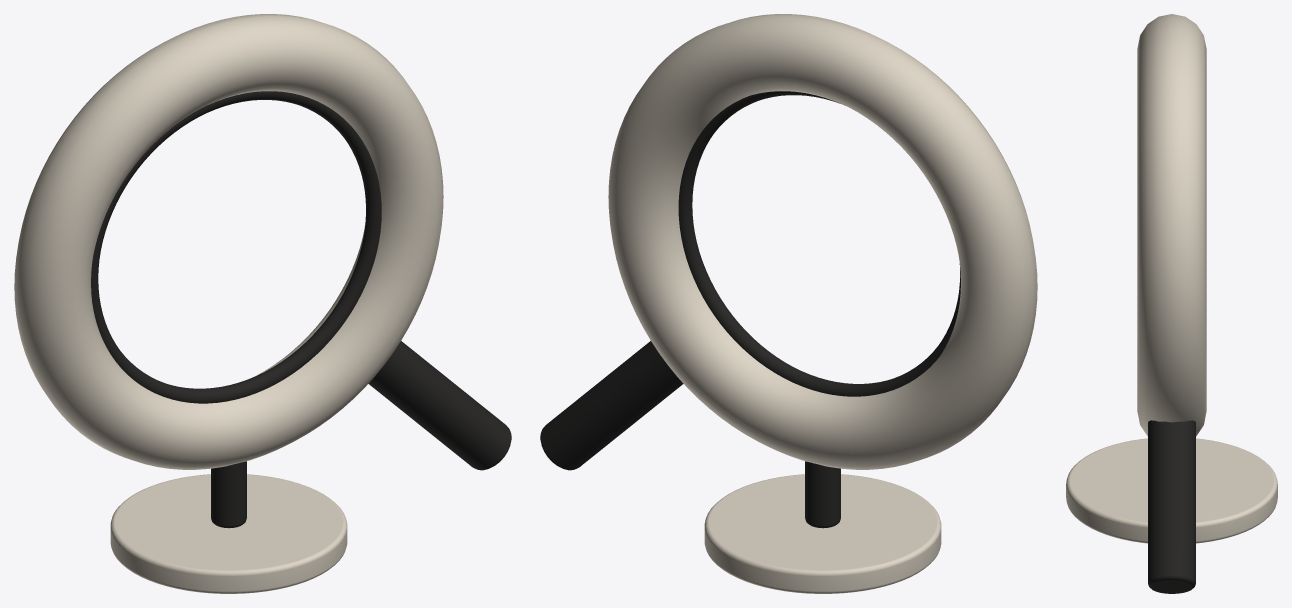
The model's file is VSV-014_insight-lens__lens-tilt.glb.
3 views of the same model, side by side, from view 1: azimuth 30°, elevation 25°; view 2: azimuth 150°, elevation 25°; view 3: azimuth 270°, elevation 25° (orthographic). The views are drawn at different scales.
Visible parts, largest first — view 1: VSV-014_insight-lens__lens rim, VSV-014_insight-lens__plinth, VSV-014_insight-lens__ink inner, VSV-014_insight-lens__handle, VSV-014_insight-lens__lens support; view 2: VSV-014_insight-lens__lens rim, VSV-014_insight-lens__plinth, VSV-014_insight-lens__handle, VSV-014_insight-lens__ink inner, VSV-014_insight-lens__lens support; view 3: VSV-014_insight-lens__lens rim, VSV-014_insight-lens__plinth, VSV-014_insight-lens__handle.
Boxes of the visible parts, x1,y1,x2,y2 form: VSV-014_insight-lens__lens rim: (14, 14, 443, 469); VSV-014_insight-lens__plinth: (110, 474, 347, 593); VSV-014_insight-lens__ink inner: (91, 91, 381, 403); VSV-014_insight-lens__handle: (368, 341, 511, 470); VSV-014_insight-lens__lens support: (211, 461, 246, 528); VSV-014_insight-lens__lens rim: (608, 14, 1037, 469); VSV-014_insight-lens__plinth: (704, 474, 941, 593); VSV-014_insight-lens__handle: (540, 341, 683, 470); VSV-014_insight-lens__ink inner: (678, 91, 960, 396); VSV-014_insight-lens__lens support: (805, 461, 840, 528); VSV-014_insight-lens__lens rim: (1137, 14, 1206, 436); VSV-014_insight-lens__plinth: (1066, 438, 1277, 543); VSV-014_insight-lens__handle: (1148, 420, 1195, 593).
Bounding box in the file's own units: 2.19 × 2.24 × 0.92.
